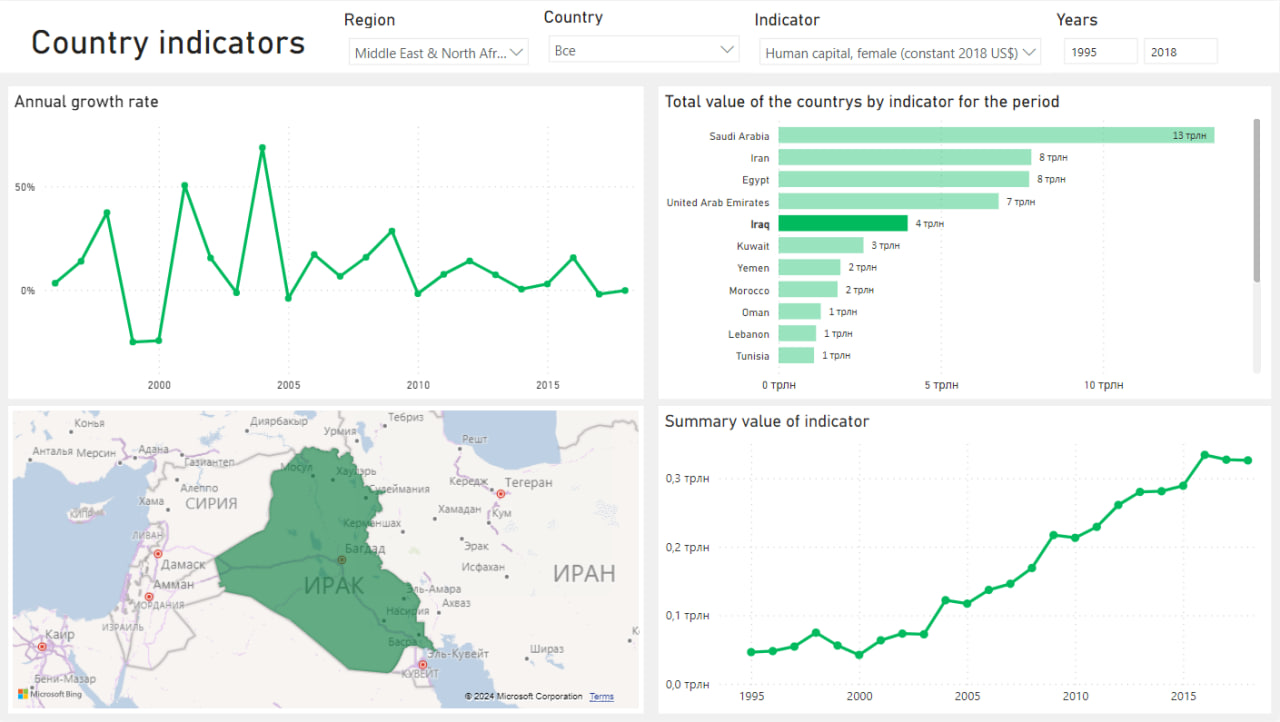

This screenshot's page, from the dashboard's own definition file:
{"tool":"powerbi","page":{"name":"Страница 1","canvas":[1280,720],"ordinal":0},"visuals":[{"type":"textbox","box":[0,0,1280,72.2],"z":0},{"type":"lineChart","title":"Summary value of indicator","fields":{"Category":["public data.year"],"Y":["Sum(public data.value)"]},"box":[659.1,405.5,612.7,308.2],"z":1000},{"type":"filledMap","fields":{"Category":["public country.long_name","public data.value"]},"box":[8.2,405.5,636.4,308.2],"z":2000},{"type":"slicer","title":"Region","fields":{"Values":["public country.region"]},"box":[338.9,7.8,200,62.2],"z":3000},{"type":"slicer","title":"Country","fields":{"Values":["public country.short_name"]},"box":[538.9,5.6,211.1,65.6],"z":4000},{"type":"slicer","title":"Indicator","fields":{"Values":["public series.indicator_name"]},"box":[750,7.8,302.2,64.4],"z":5000},{"type":"barChart","title":"         Total value of the countrys by indicator for the period","fields":{"Category":["public country.short_name"],"Y":["Sum(public data.value)"]},"box":[659.1,85.5,612.7,312.7],"z":6000},{"type":"slicer","title":"  Years","fields":{"Values":["public data.year"]},"box":[1052.2,7.8,173.3,63.3],"z":7000},{"type":"lineChart","title":"Annual growth rate","fields":{"Category":["public data.year"],"Y":["public data.Growth Rate"]},"box":[8.2,85.5,636.4,312.7],"z":8000}]}

Visuals, with their boxes in screenshot pixels (x1, y1, x2, y2), scaled from the page's 1280x720 canvas onto the 1280x722 screenshot:
textbox: <bbox>0, 0, 1279, 72</bbox>
"Summary value of indicator" lineChart: <bbox>659, 407, 1272, 716</bbox>
filledMap - public country.long_name x public data.value: <bbox>8, 407, 645, 716</bbox>
"Region" slicer: <bbox>339, 8, 539, 70</bbox>
"Country" slicer: <bbox>539, 6, 750, 71</bbox>
"Indicator" slicer: <bbox>750, 8, 1052, 72</bbox>
"         Total value of the countrys by indicator for the period" barChart: <bbox>659, 86, 1272, 399</bbox>
"  Years" slicer: <bbox>1052, 8, 1226, 71</bbox>
"Annual growth rate" lineChart: <bbox>8, 86, 645, 399</bbox>
